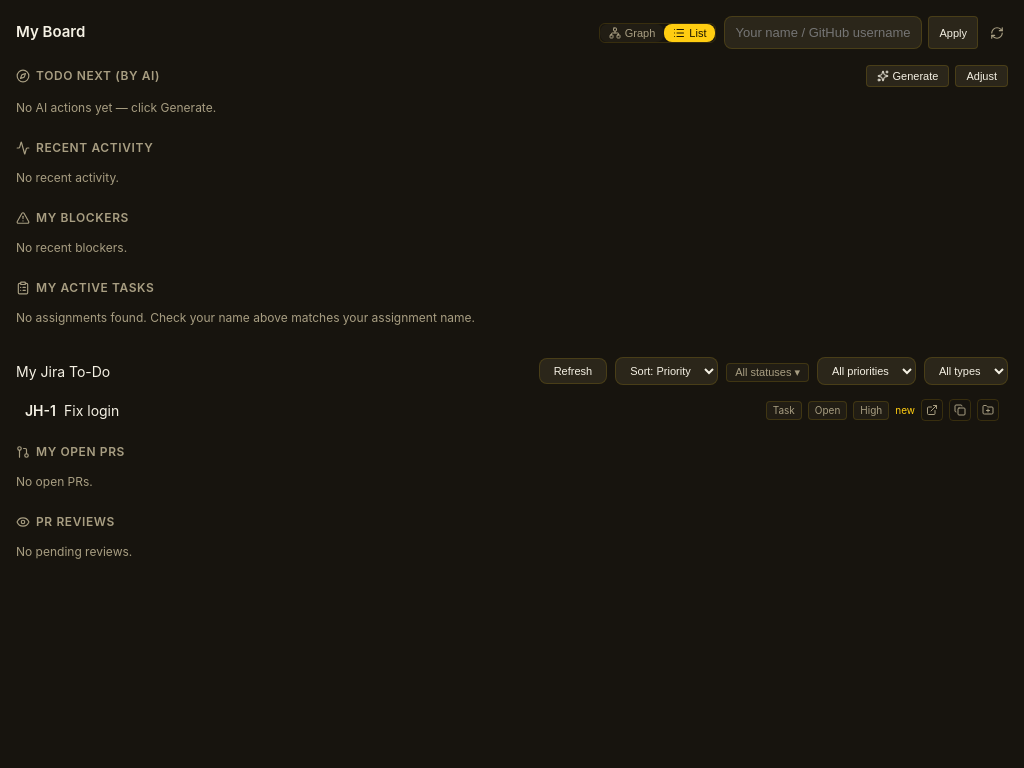
Test: MyBoardPage — My Jira To-Do › Refresh re-fetches from Jira and re-renders
Expected: the text "Fix login" is shown, [64,402,119,418]
Click the button with aria-label "refresh assigned jira" at x=573, y=371, box [539,358,607,384]
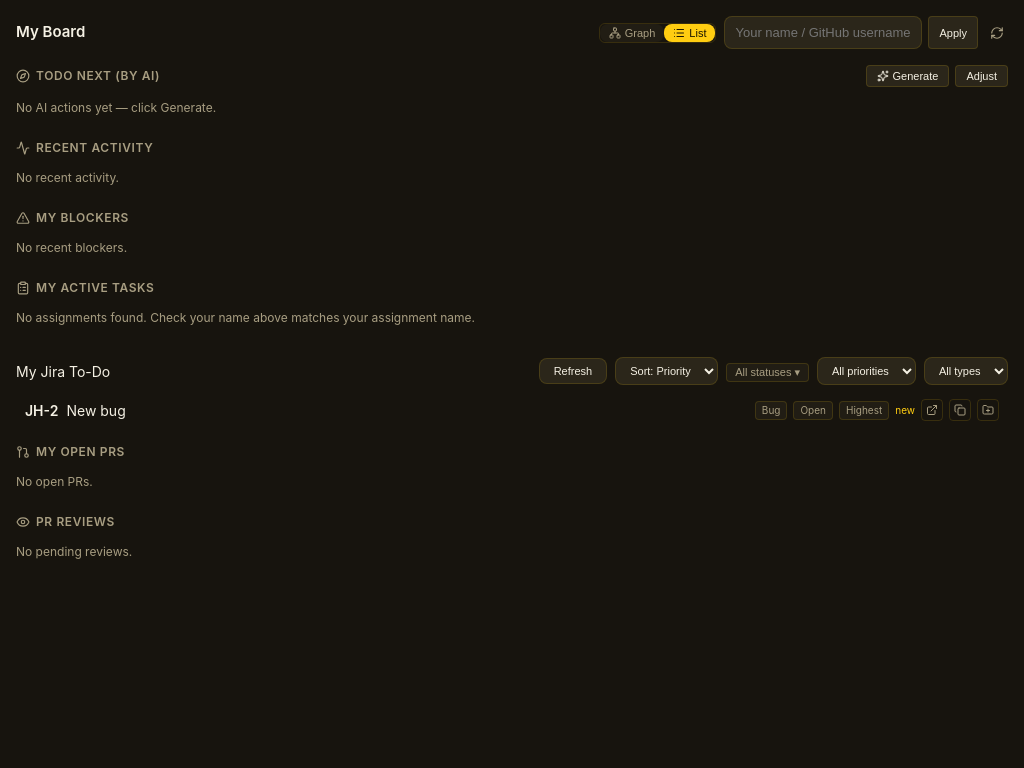
Now the text "New bug" is shown, box [66,402,126,418]
